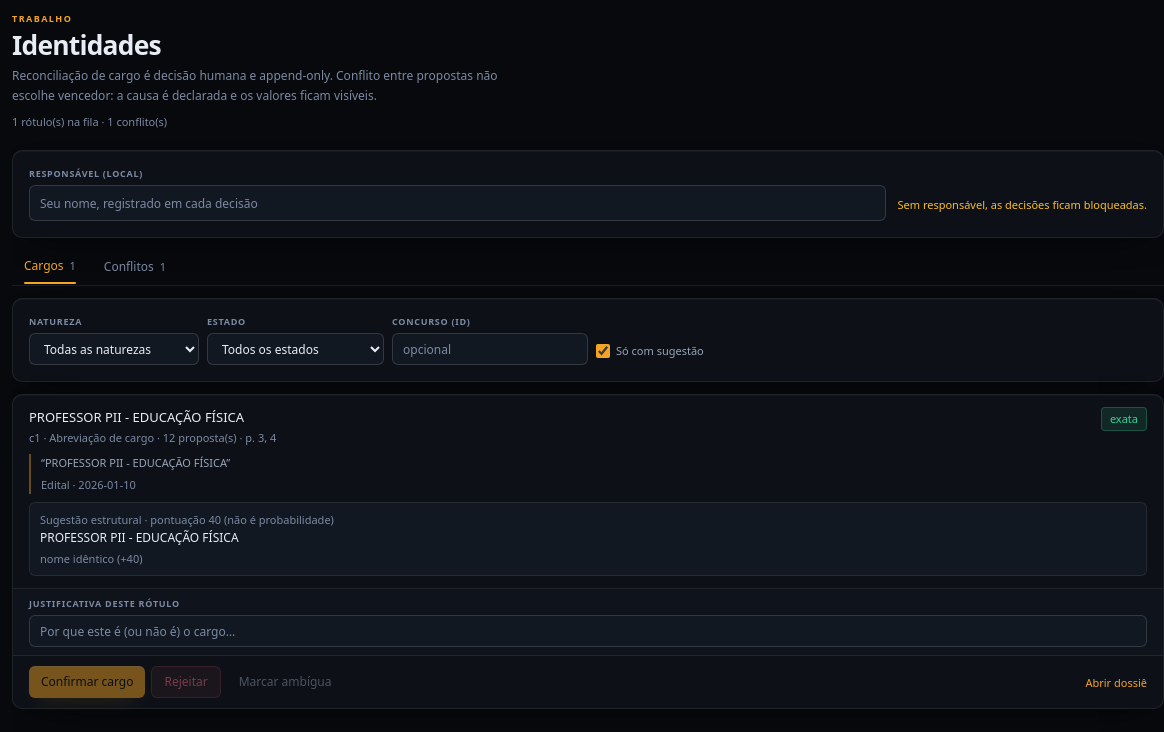
it: página de Identidades › bloqueia a decisão sem responsável e justificativa
Expected: the button "Confirmar cargo" is disabled, [29,666,145,698]
Type "anton" into the field with placeholder "Seu nome, registrado em cada decisão" at coordinates (457, 203), box [29,185,886,221]
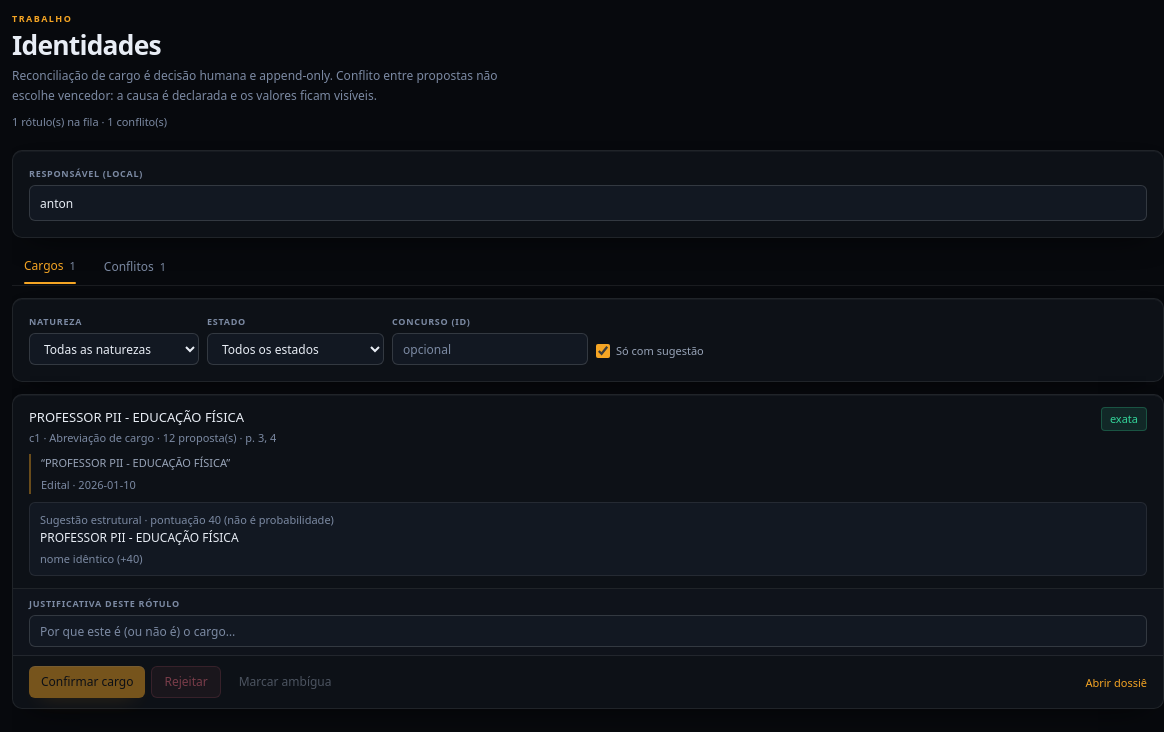
Expected: the button "Confirmar cargo" is disabled, [29,666,145,698]
Type "rótulo idêntico ao cargo do edital" into the field with placeholder "Por que este é (ou não é) o cargo…" at coordinates (588, 631), box [29,615,1147,647]
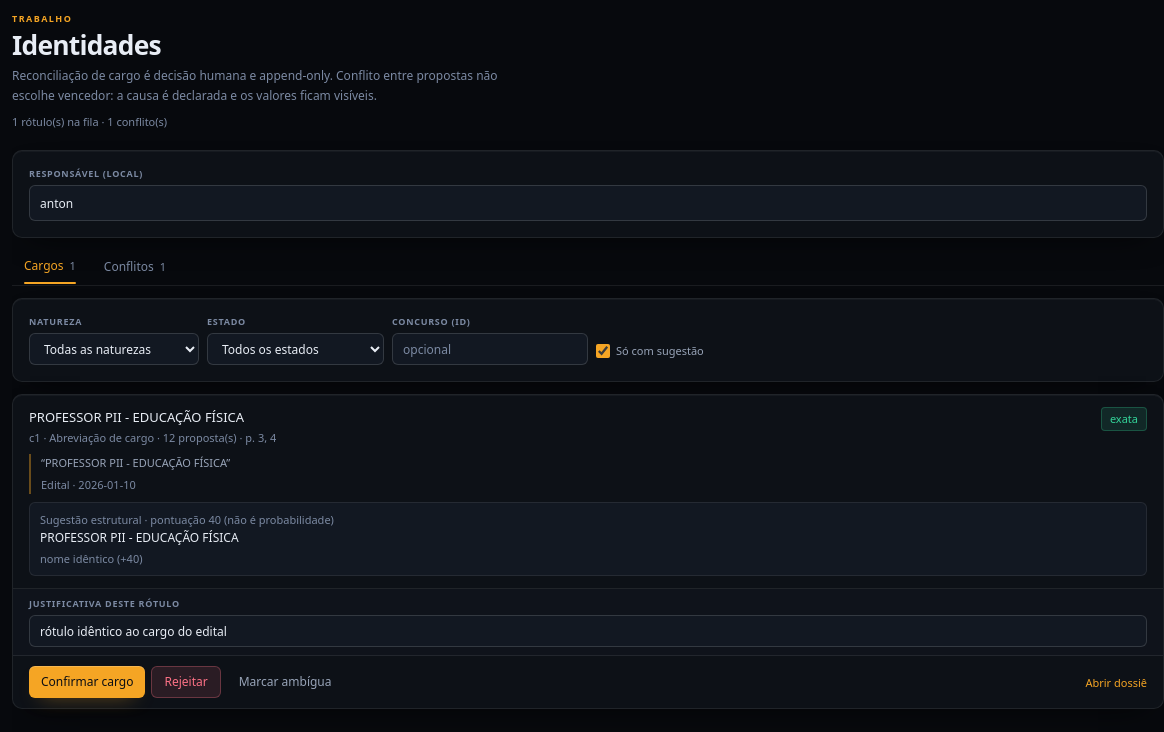
Expected: the button "Confirmar cargo" is enabled, [29,666,145,698]
